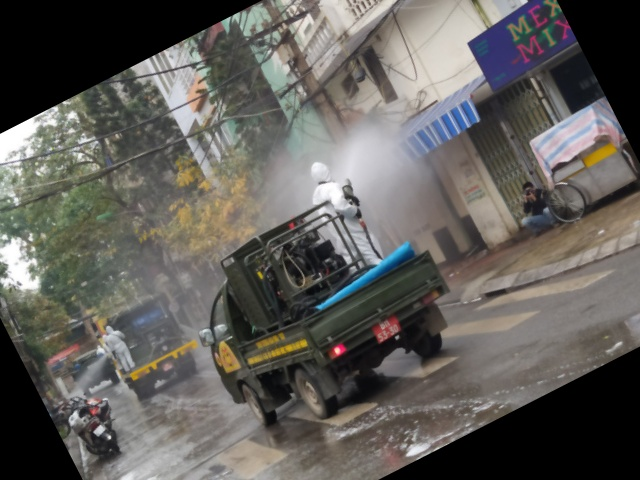plate: (366, 314, 401, 347), (89, 423, 109, 438), (160, 362, 176, 377)
